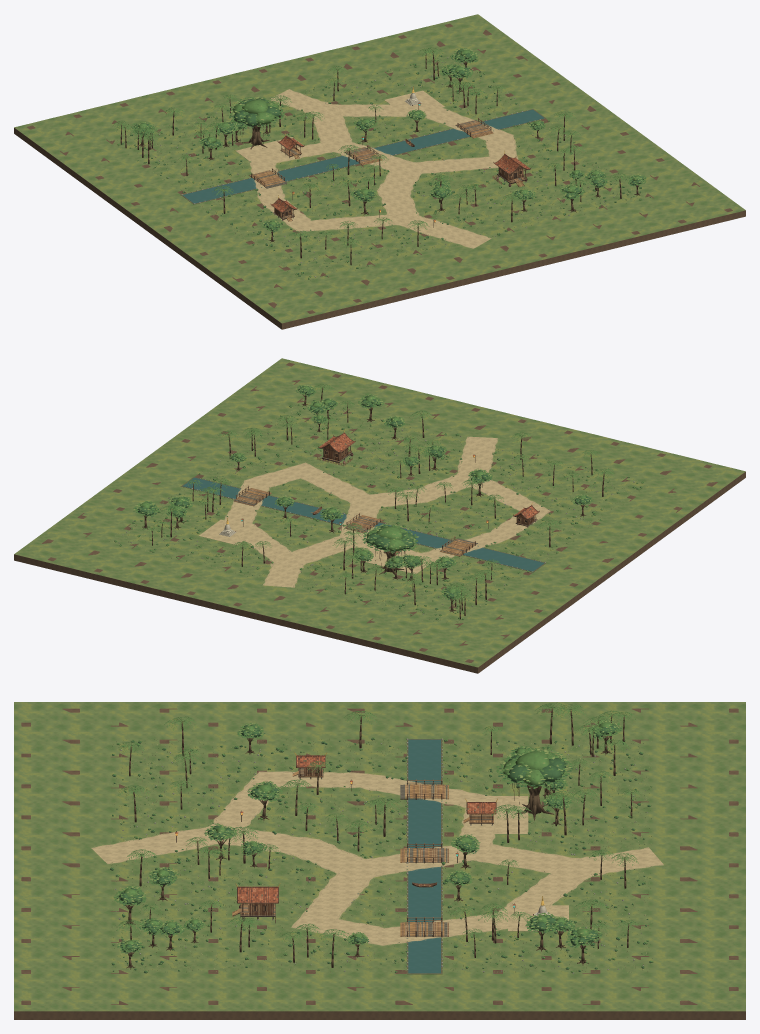
File: old-orchard.glb
3 renders of one model, top to bottom at view 1: azimuth 30°, elevation 25°; view 2: azimuth 150°, elevation 25°; view 3: azimuth 270°, elevation 25°, orthographic. The views are drawn at different scales.
Parts seen in each view (by area): view 1: Ground - varied meadow | grass, Tracks - worn earth | path, Soil foundation | earth, Water surface | water, Feathered road shoulders | path_edge, Palm feather leaflets | leaf2, Fine outer tree leaves | leaf2, Curved palm trunks | trunk, Organic tree foliage | leaf, Palm feather leaflets | leaf4, Fine outer tree leaves | leaf4, Organic understory shrubs | leaf4 (+13 smaller); view 2: Ground - varied meadow | grass, Tracks - worn earth | path, Soil foundation | earth, Palm feather leaflets | leaf2, Feathered road shoulders | path_edge, Water surface | water, Organic tree foliage | leaf, Fine outer tree leaves | leaf2, Curved palm trunks | trunk, Palm feather leaflets | leaf4, Fine outer tree leaves | leaf4, Organic understory shrubs | leaf2 (+11 smaller); view 3: Ground - varied meadow | grass, Tracks - worn earth | path, Soil foundation | earth, Water surface | water, Feathered road shoulders | path_edge, Palm feather leaflets | leaf2, Palm feather leaflets | leaf4, Curved palm trunks | trunk, Fine outer tree leaves | leaf2, Organic tree foliage | leaf, Fine outer tree leaves | leaf4, Organic understory shrubs | leaf (+20 smaller).
Boxes of the visible parts, x1,y1,x2,y2 form: Ground - varied meadow | grass: (14, 14, 745, 323); Tracks - worn earth | path: (249, 90, 514, 247); Soil foundation | earth: (14, 23, 745, 329); Water surface | water: (182, 109, 544, 203); Feathered road shoulders | path_edge: (246, 89, 518, 248); Palm feather leaflets | leaf2: (113, 47, 629, 247); Fine outer tree leaves | leaf2: (132, 48, 646, 232); Curved palm trunks | trunk: (120, 53, 621, 265); Organic tree foliage | leaf: (134, 49, 643, 231); Palm feather leaflets | leaf4: (114, 47, 628, 246); Fine outer tree leaves | leaf4: (133, 48, 645, 231); Organic understory shrubs | leaf4: (117, 55, 649, 279); Ground - varied meadow | grass: (14, 358, 745, 667); Tracks - worn earth | path: (224, 436, 547, 587); Soil foundation | earth: (14, 362, 745, 673); Palm feather leaflets | leaf2: (143, 384, 613, 604); Feathered road shoulders | path_edge: (222, 436, 550, 587); Water surface | water: (182, 477, 544, 571); Organic tree foliage | leaf: (137, 386, 590, 598); Fine outer tree leaves | leaf2: (134, 385, 592, 598); Curved palm trunks | trunk: (151, 389, 604, 619); Palm feather leaflets | leaf4: (145, 384, 613, 603); Fine outer tree leaves | leaf4: (133, 385, 592, 599); Organic understory shrubs | leaf2: (114, 398, 642, 619); Ground - varied meadow | grass: (14, 702, 745, 1011); Tracks - worn earth | path: (93, 773, 662, 944); Soil foundation | earth: (14, 708, 745, 1019); Water surface | water: (408, 739, 440, 973); Feathered road shoulders | path_edge: (91, 771, 663, 945); Palm feather leaflets | leaf2: (117, 702, 641, 944); Palm feather leaflets | leaf4: (117, 703, 641, 942); Curved palm trunks | trunk: (129, 710, 632, 967); Fine outer tree leaves | leaf2: (113, 721, 622, 953); Organic tree foliage | leaf: (117, 724, 618, 952); Fine outer tree leaves | leaf4: (114, 721, 621, 952); Organic understory shrubs | leaf: (110, 738, 651, 973).
Bounding box in the file's own units: 180 × 18.14 × 180.
Materials: 37 (37 with a texture image).
